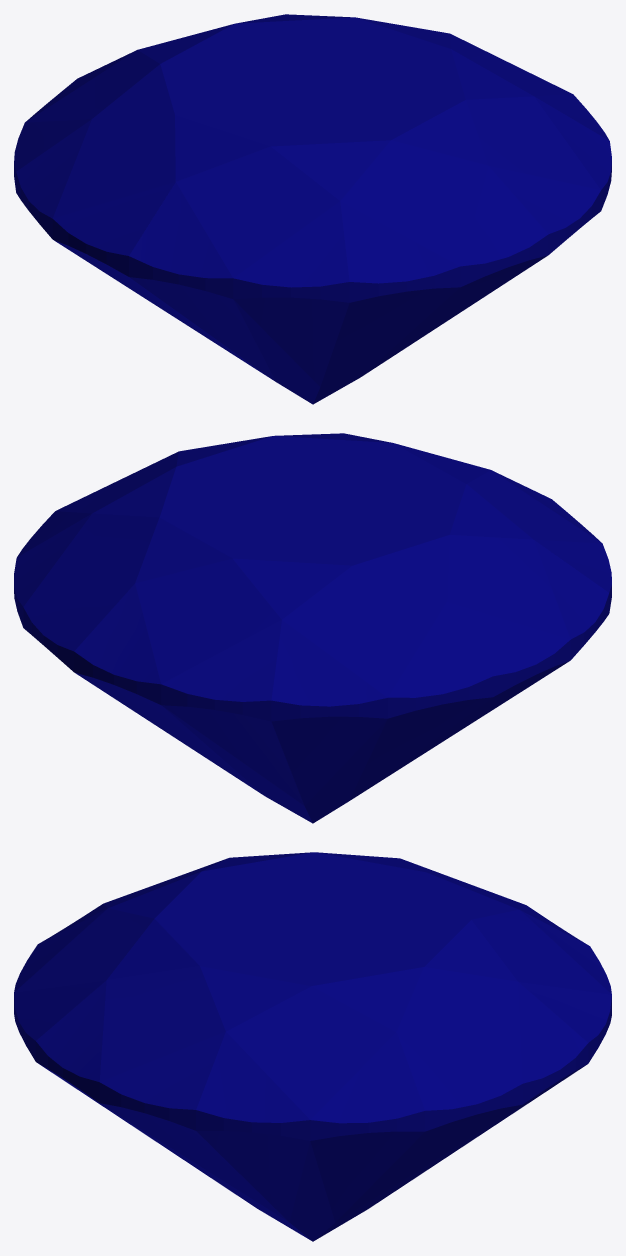
Rendered from diamond2.obj.
3 views of the same model, one above another, from view 1: azimuth 30°, elevation 25°; view 2: azimuth 150°, elevation 25°; view 3: azimuth 270°, elevation 25° (orthographic).
Bounding box in the file's own units: 2.1 × 1.25 × 2.1.
